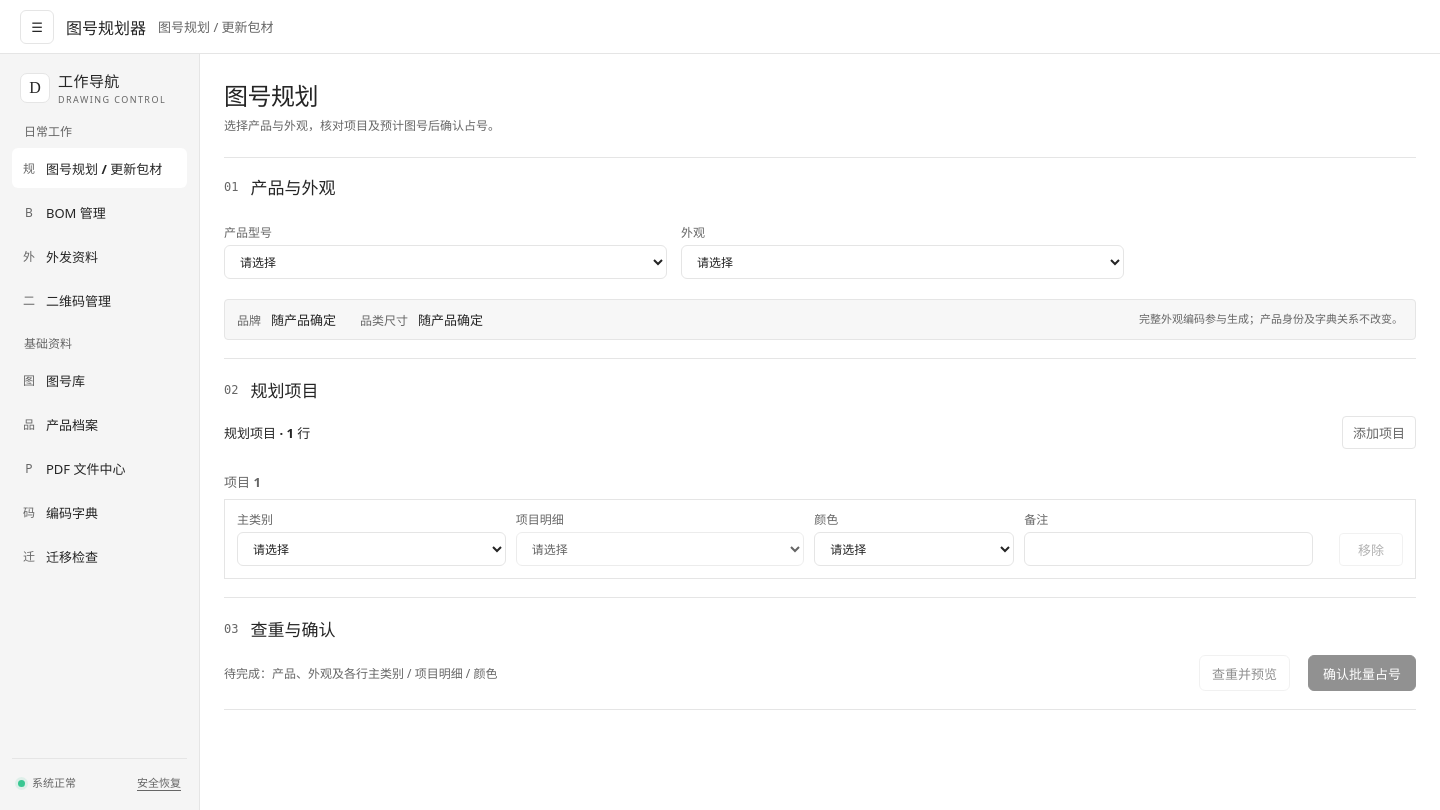
safe recovery surface › offers all four recovery actions through the desktop bridge
Click the button "安全恢复": (159, 784) [137,773,181,794]
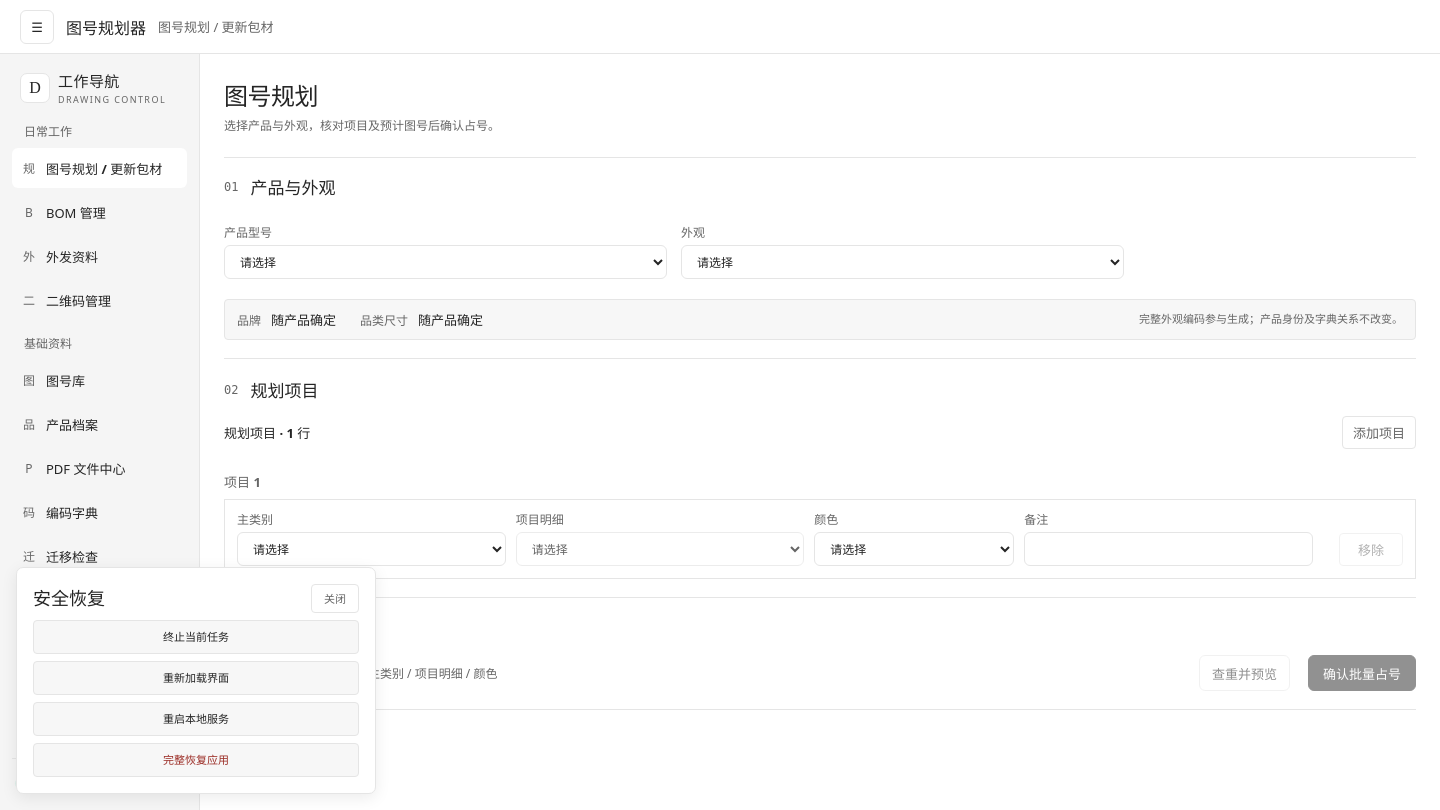
Expected: the button "终止当前任务" is enabled, [33,620,359,654]
Expected: the button "重新加载界面" is enabled, [33,661,359,695]
Expected: the button "重启本地服务" is enabled, [33,702,359,736]
